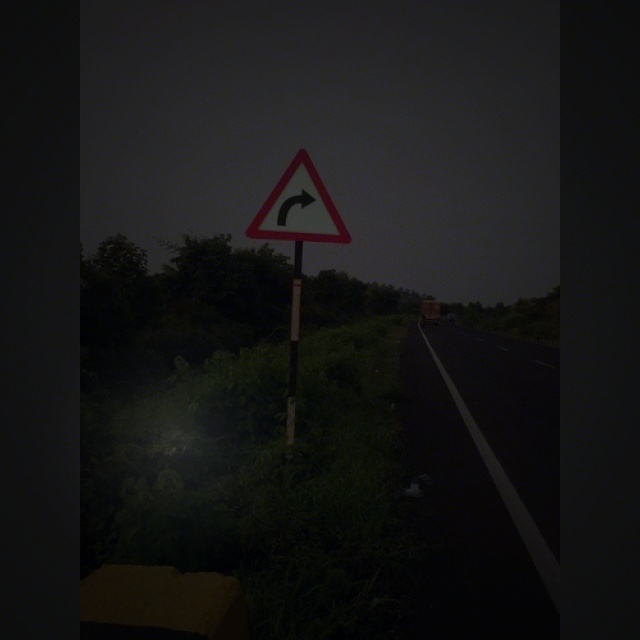Right_Hand_Curve: (243, 149, 357, 246)
